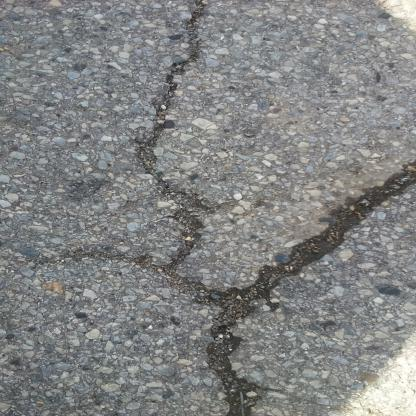Cracks: (195, 160, 416, 415), (122, 0, 235, 279)
